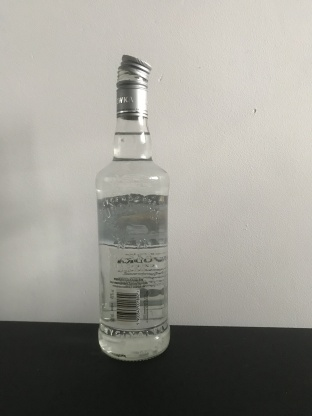nakretka: (114, 52, 153, 121)
